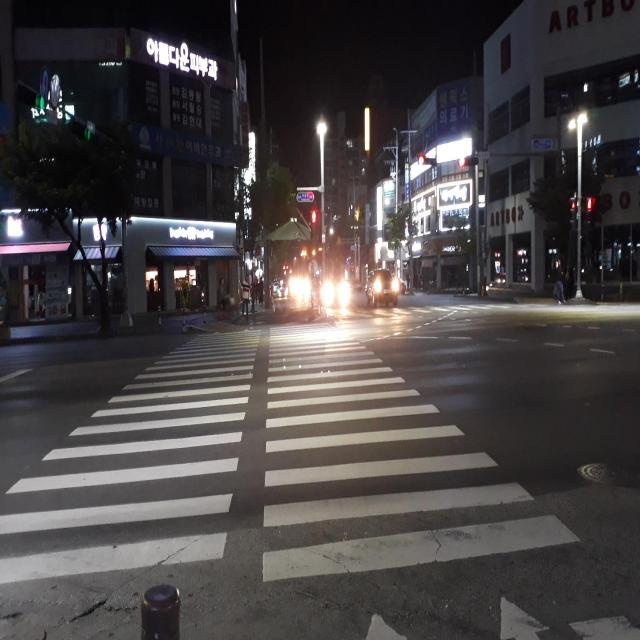빨간불: (311, 212, 319, 242)
횡단보도: (0, 317, 640, 640)
